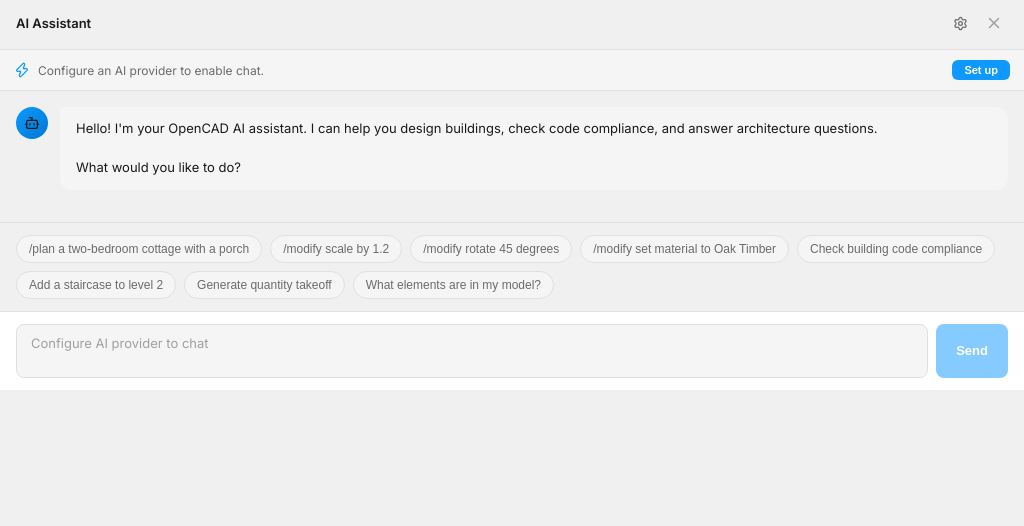
it: T-AI-006: AIChatPanel › /plan slash command › sends /plan through generateProject and loads the returned schema
Type "/plan a tiny studio" into the text box at [472, 350], box [16, 324, 928, 378]
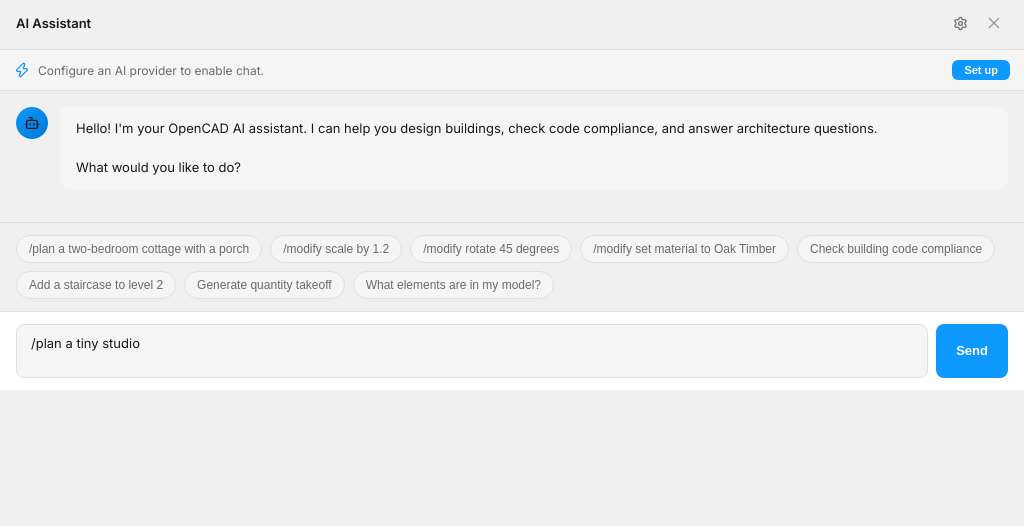
Click the button with aria-label "send message" at [972, 350], box [936, 324, 1008, 378]
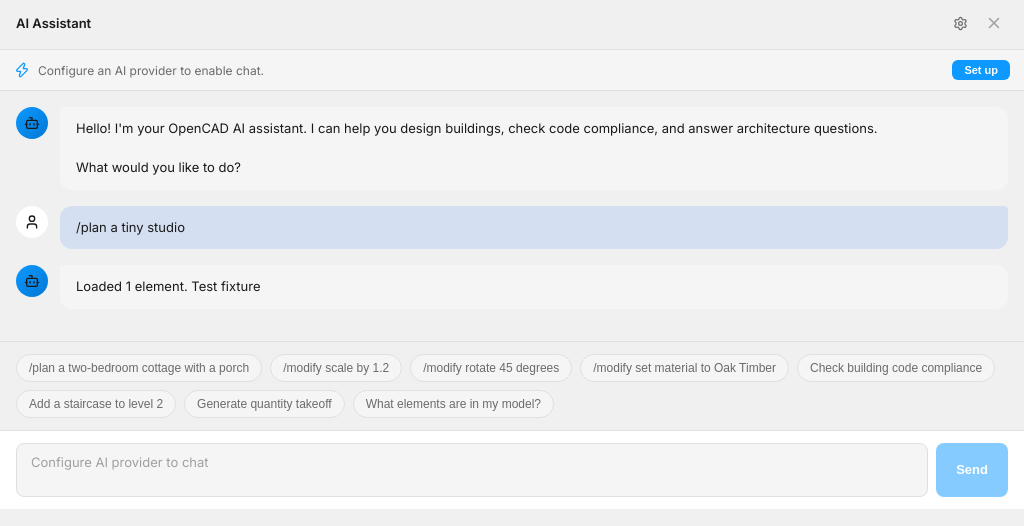
Expected: the text "Loaded 1 element. Test fixture" is shown, [76, 278, 260, 294]
